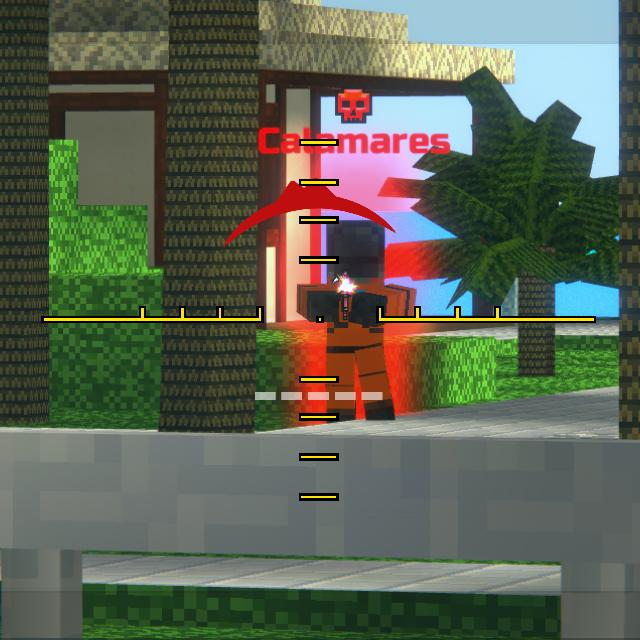Enemy: (296, 220, 417, 424)
